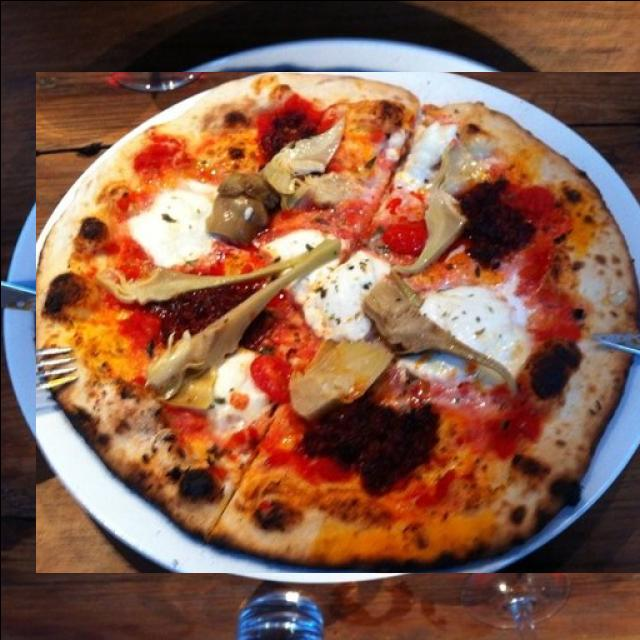pizza: (35, 71, 639, 572)
